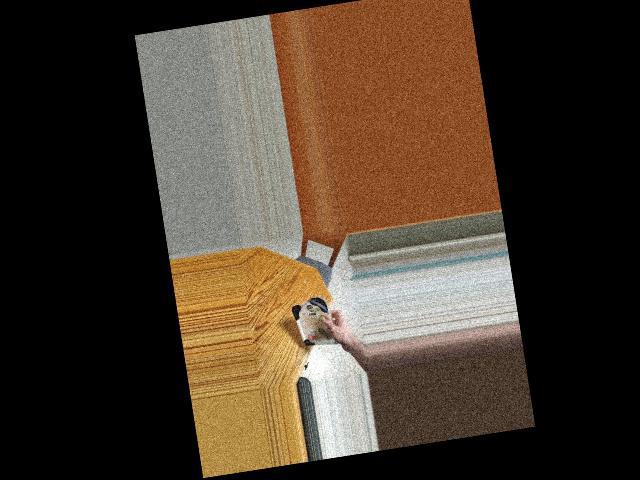cheese: (294, 292, 337, 355)
